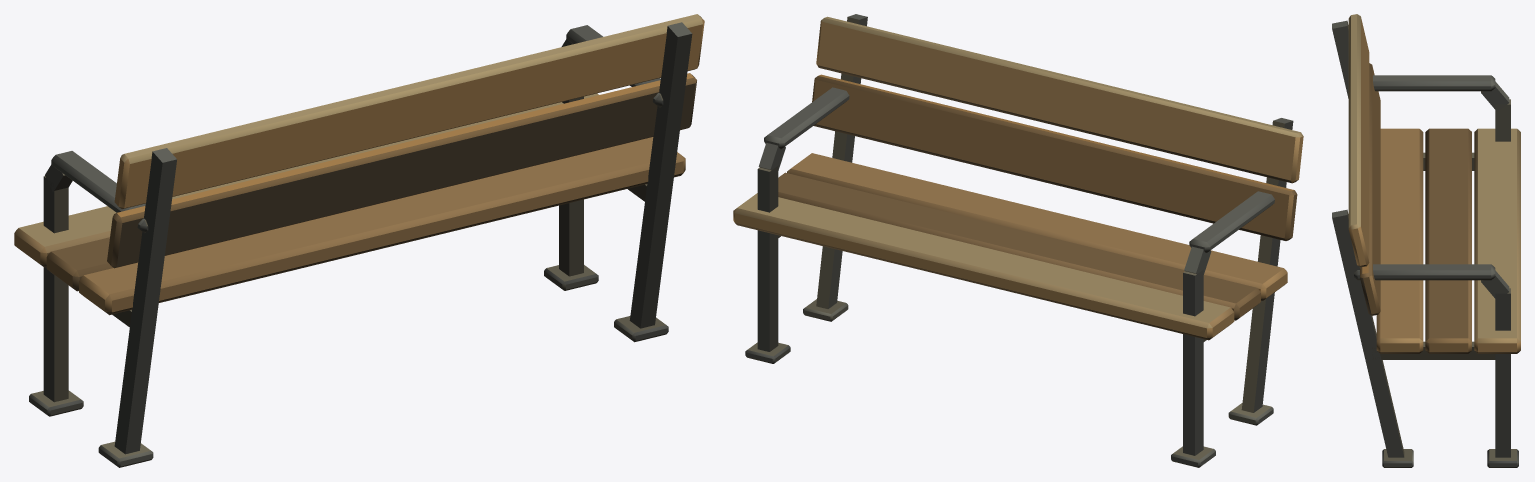
Rendered from seat_bench_v2.glb.
3 views of the same model, side by side, from view 1: azimuth 30°, elevation 25°; view 2: azimuth 150°, elevation 25°; view 3: azimuth 270°, elevation 25° (orthographic). The views are drawn at different scales.
Visible parts, largest first — view 1: body; view 2: body; view 3: body.
Boxes of the visible parts, bbox=[...] form: body: bbox=[14, 14, 704, 467]; body: bbox=[733, 14, 1303, 467]; body: bbox=[1332, 14, 1520, 467].
Bounding box in the file's own units: 1.6 × 0.8804 × 0.5996.
